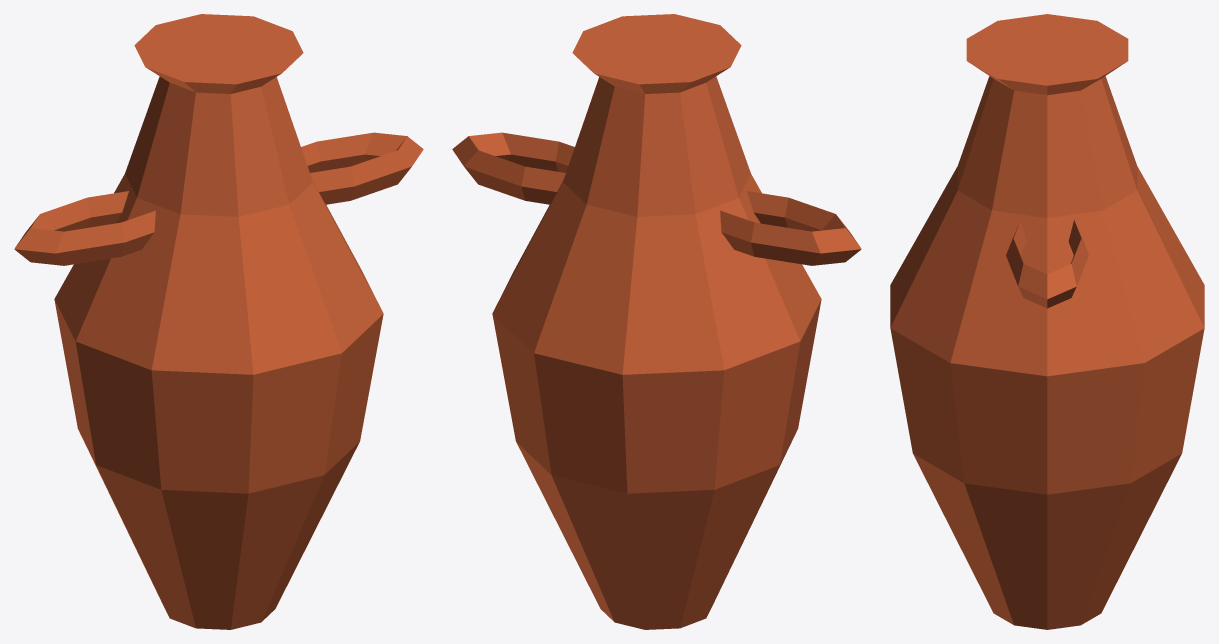
File: amphora.glb
3 views of the same model, side by side, from view 1: azimuth 30°, elevation 25°; view 2: azimuth 150°, elevation 25°; view 3: azimuth 270°, elevation 25° (orthographic).
Parts seen in each view (by area): view 1: amphora; view 2: amphora; view 3: amphora.
Boxes of the visible parts, x1,y1,x2,y2 form: amphora: (14, 14, 423, 629); amphora: (452, 14, 861, 629); amphora: (890, 14, 1204, 629).
Size of the model in its own units: 1 by 1.3 by 0.6657.
